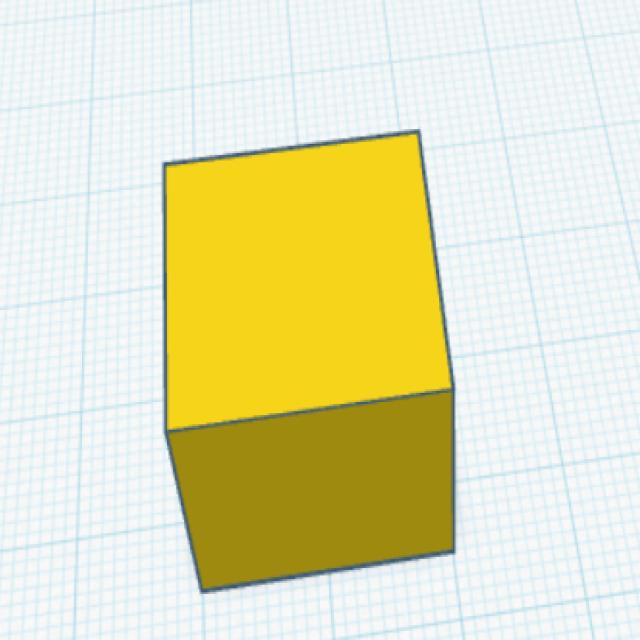cube: (158, 125, 460, 597)
